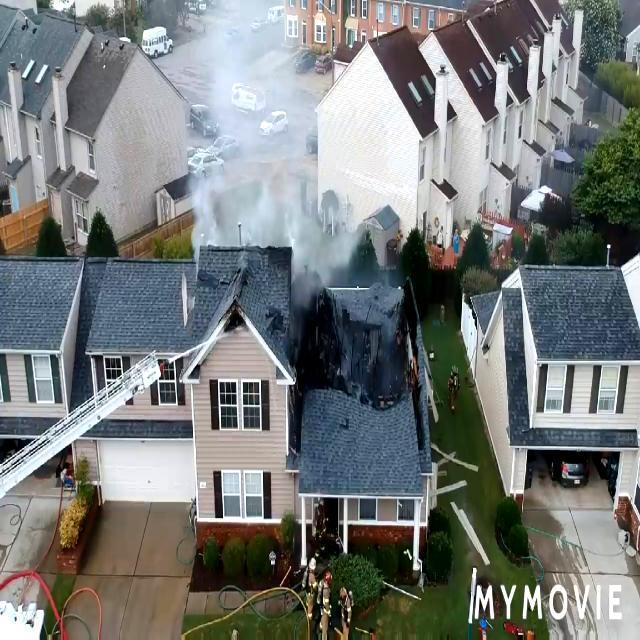Smoke: (175, 0, 383, 300)
